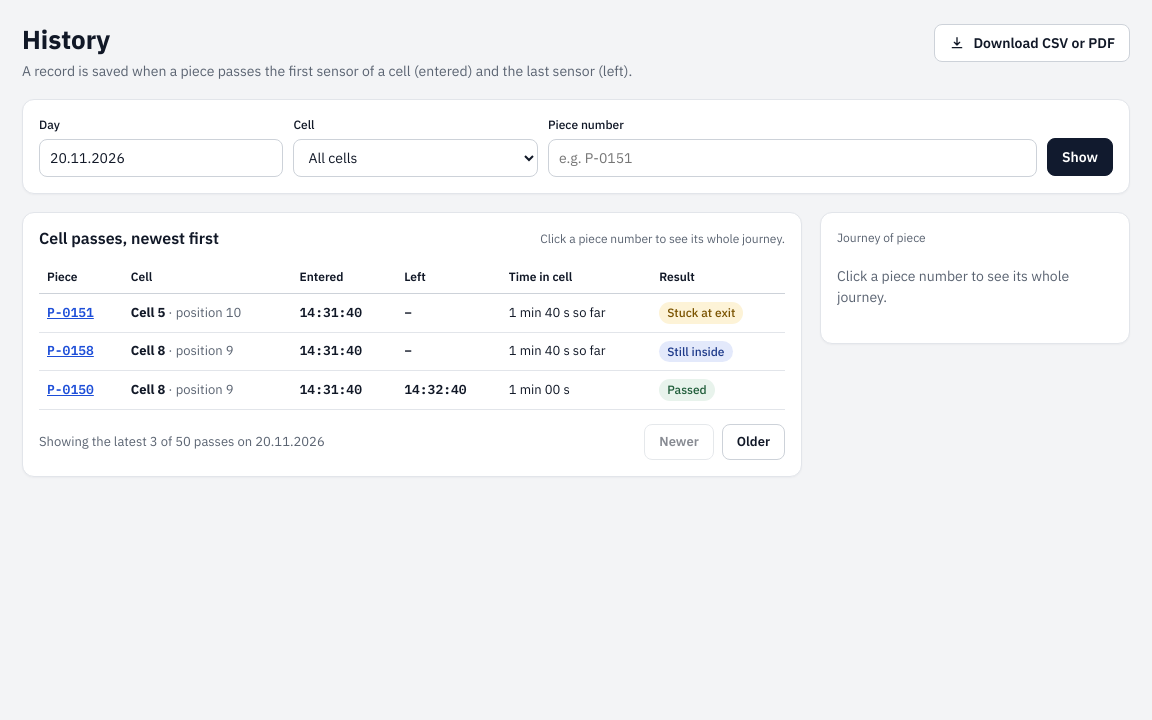
Test: History downloads › uses the download limit of the server
Click the button "Download CSV or PDF": (1032, 43) top-left (934, 24), bottom-right (1130, 62)
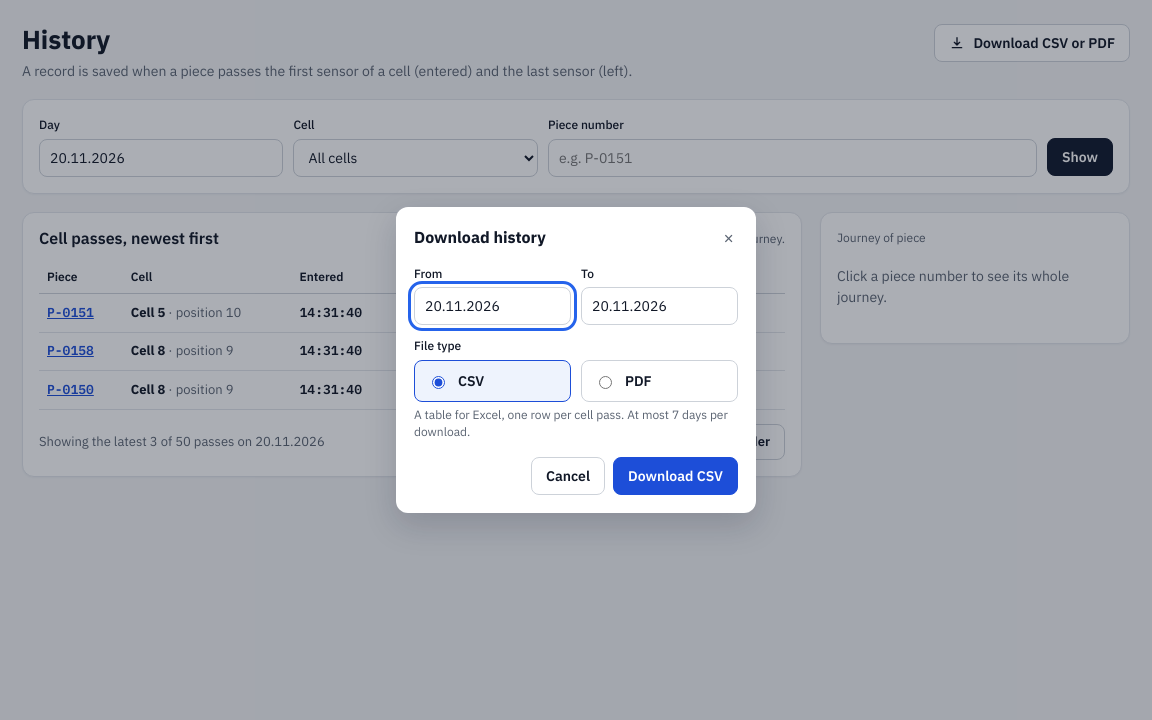
Clear the field labelled "To": (660, 306) top-left (581, 287), bottom-right (738, 325)
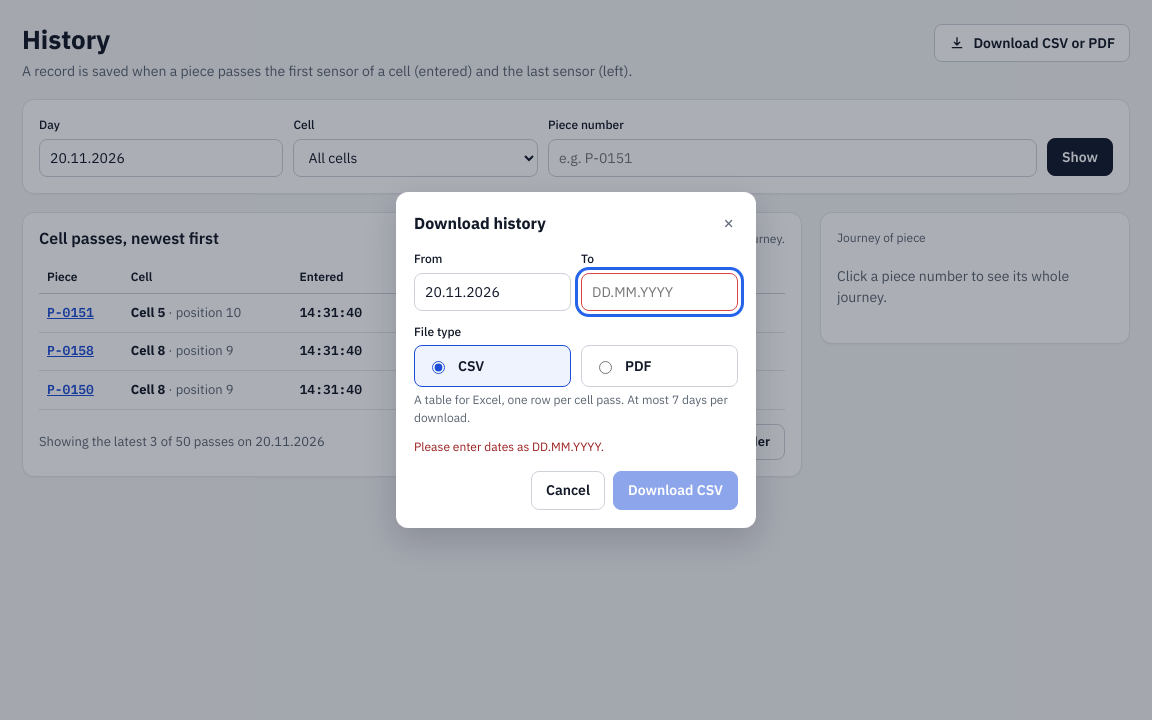
In the field labelled "To": (660, 292) top-left (581, 273), bottom-right (738, 311), type "26.11.2026"
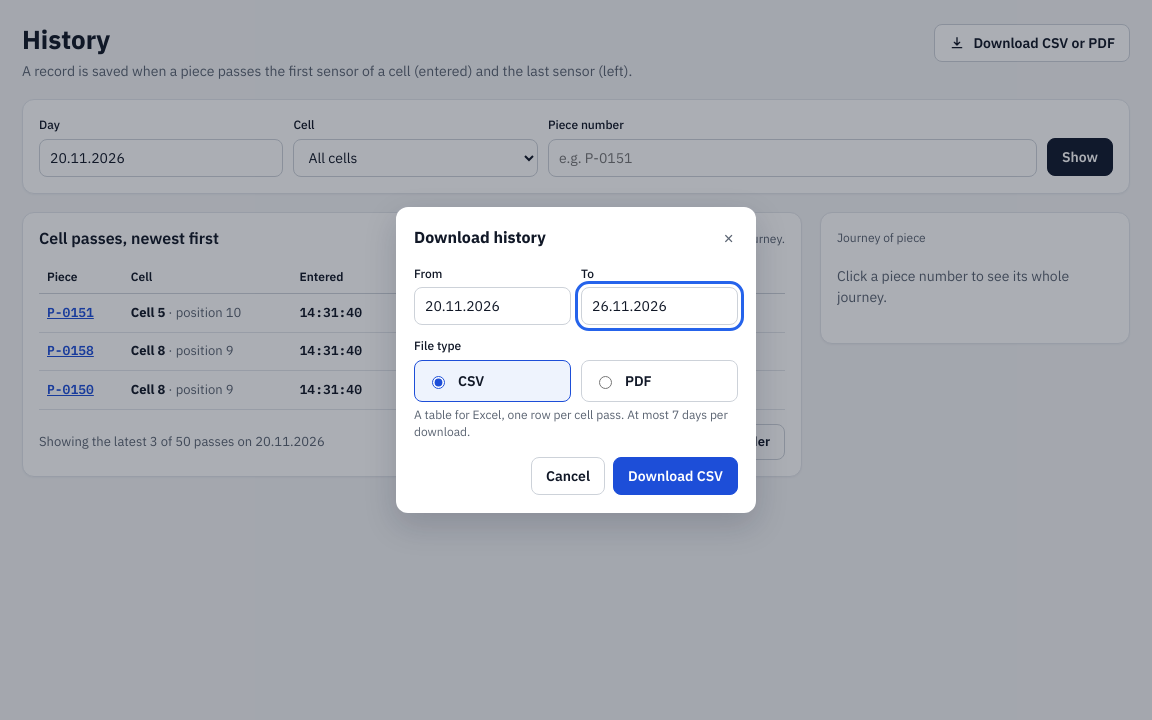
expect the link "Download CSV" is shown: met, box top-left (613, 457), bottom-right (738, 495)
expect the message "Please enter dates as DD.MM.YYYY." is gone: met
Clear the field labelled "To": (660, 306) top-left (581, 287), bottom-right (738, 325)
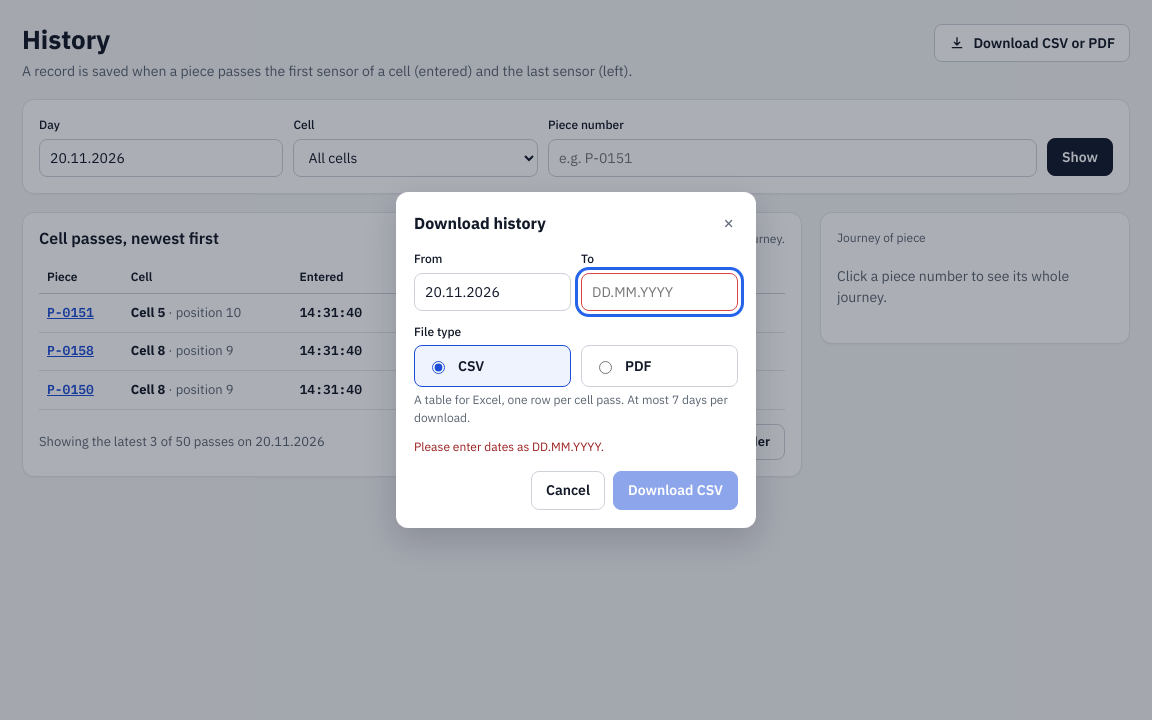
In the field labelled "To": (660, 292) top-left (581, 273), bottom-right (738, 311), type "27.11.2026"
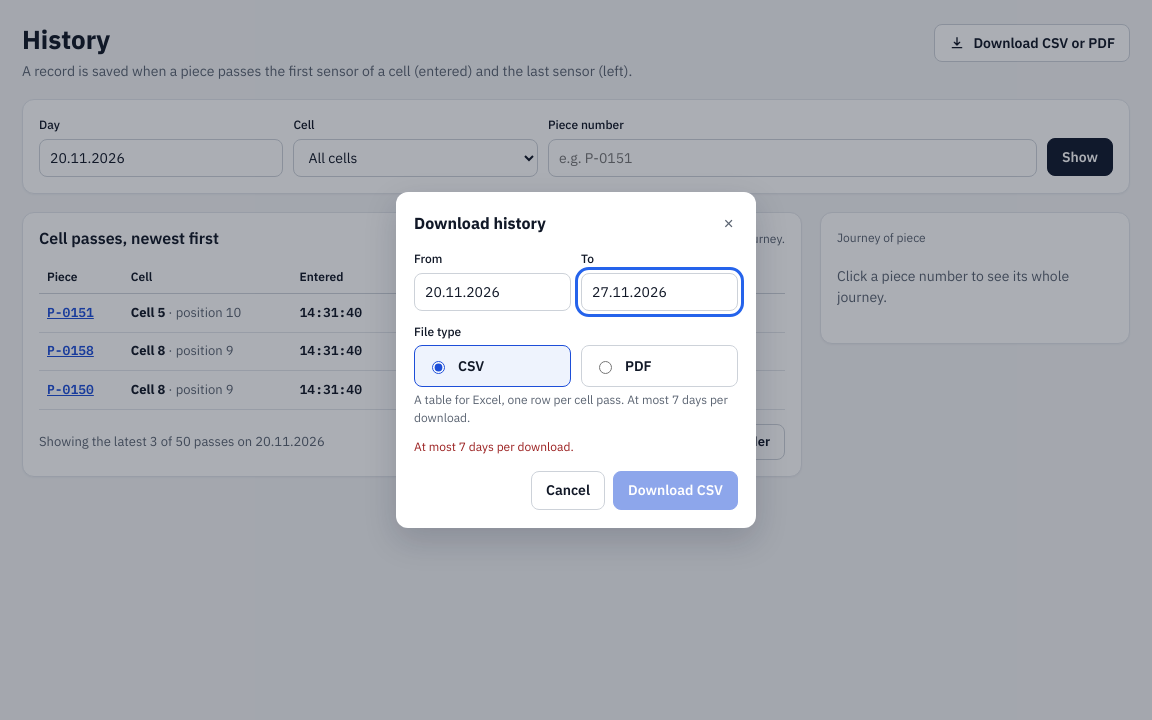
expect the button "Download CSV" is disabled: met, box top-left (613, 472), bottom-right (738, 510)
expect the message reads "At most 7 days per download.": met, box top-left (414, 439), bottom-right (574, 454)
